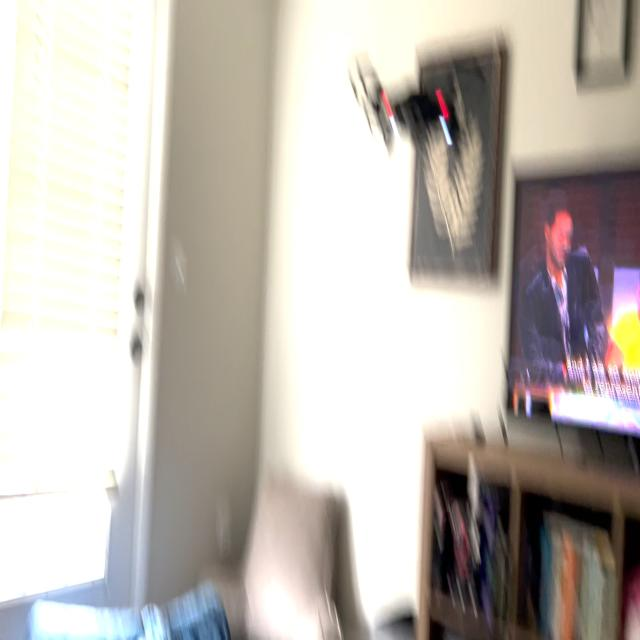drone: (344, 42, 492, 186)
